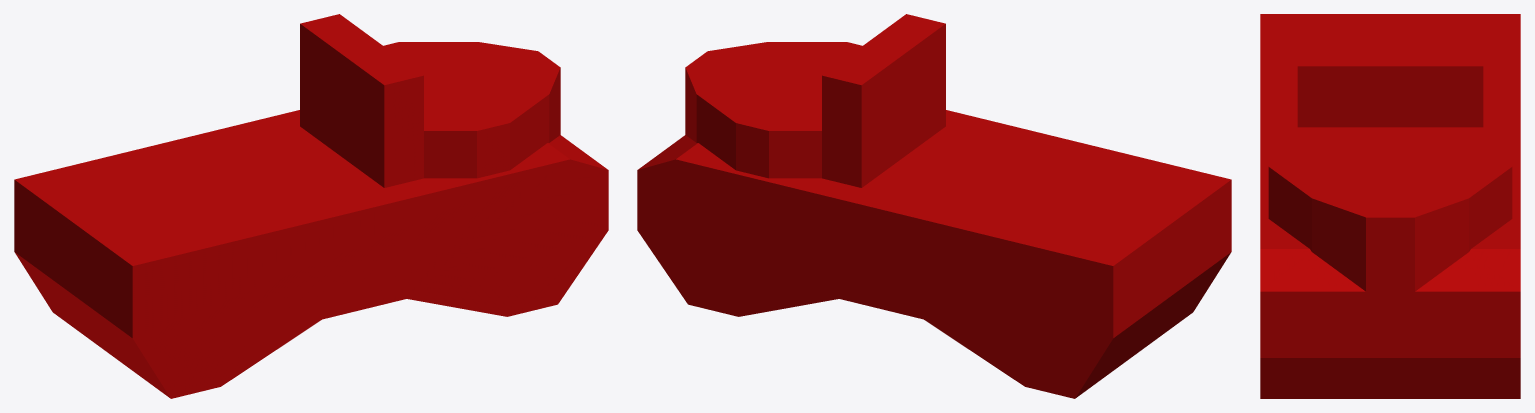
Rendered from maxpro_chassis.dae.
3 views of the same model, side by side, from view 1: azimuth 30°, elevation 25°; view 2: azimuth 150°, elevation 25°; view 3: azimuth 270°, elevation 25° (orthographic). The views are drawn at different scales.
Visible parts, largest first — view 1: Maxpro_Chassis; view 2: Maxpro_Chassis; view 3: Maxpro_Chassis.
Boxes of the visible parts, x1,y1,x2,y2 form: Maxpro_Chassis: [14, 14, 608, 398]; Maxpro_Chassis: [637, 14, 1231, 398]; Maxpro_Chassis: [1260, 14, 1520, 398].
Bounding box in the file's own units: 620 × 267 × 305.
